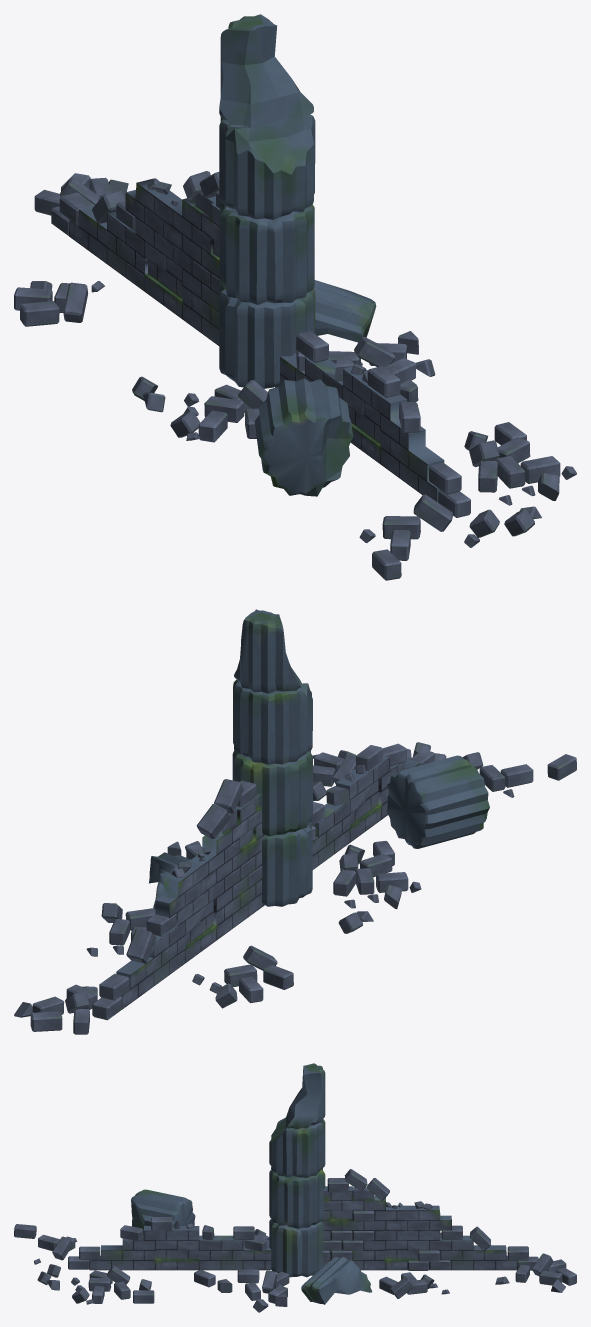
Rendered from wall_med_2.obj.
3 views of the same model, one above another, from view 1: azimuth 30°, elevation 25°; view 2: azimuth 150°, elevation 25°; view 3: azimuth 270°, elevation 25° (orthographic). The views are drawn at different scales.
Visible parts, largest first — view 1: Pillar5_Material.001_0, Bricks5_Estructura1_0, Wall5_Estructura1_0; view 2: Pillar5_Material.001_0, Bricks5_Estructura1_0, Wall5_Estructura1_0; view 3: Wall5_Estructura1_0, Bricks5_Estructura1_0, Pillar5_Material.001_0.
Part boxes in pixels (x1,y1,x2,y2): Pillar5_Material.001_0: (219,14,376,496); Bricks5_Estructura1_0: (14,171,576,580); Wall5_Estructura1_0: (69,178,444,502); Pillar5_Material.001_0: (149,609,489,908); Bricks5_Estructura1_0: (14,742,576,1034); Wall5_Estructura1_0: (116,756,420,1009); Wall5_Estructura1_0: (89,1186,517,1270); Bricks5_Estructura1_0: (14,1169,576,1312); Pillar5_Material.001_0: (131,1063,372,1304).
Bounding box in the file's own units: 1.65 × 2.08 × 5.13.
